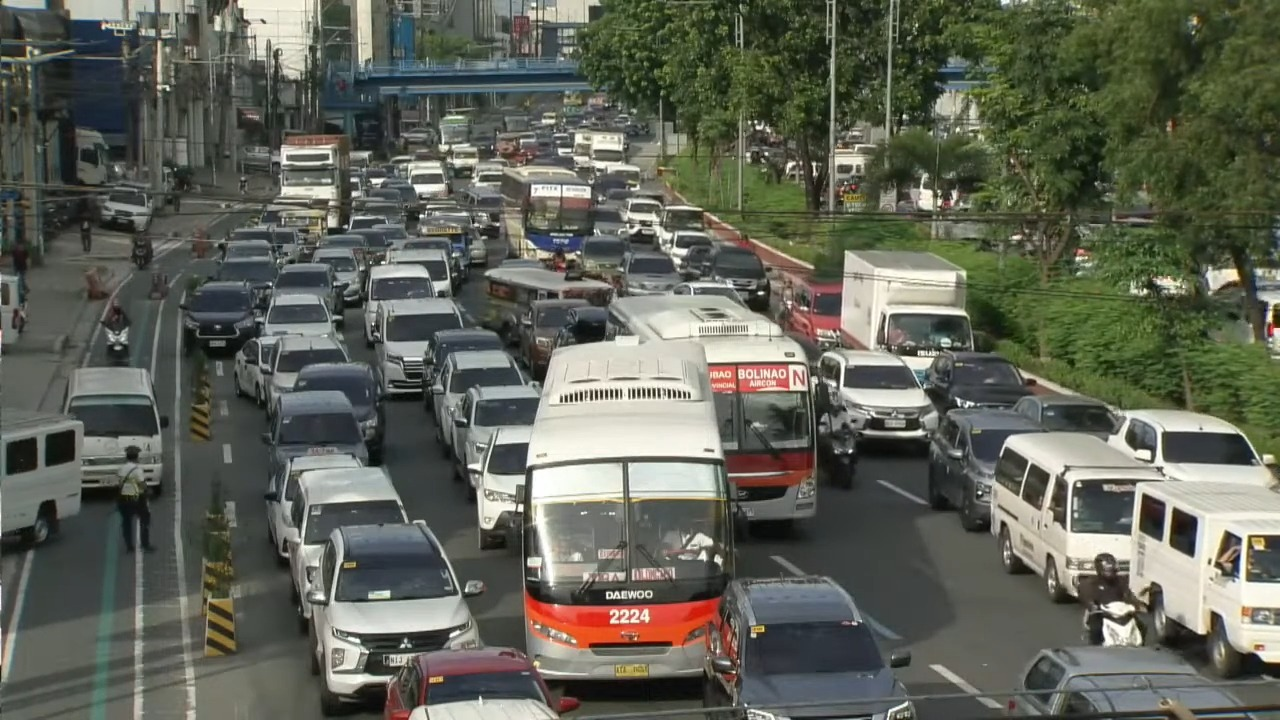bus: (516, 338, 740, 679), (608, 295, 817, 522), (502, 165, 593, 254), (438, 113, 471, 152)
car: (304, 523, 484, 715), (704, 576, 915, 719), (283, 468, 407, 632), (1007, 646, 1247, 717), (926, 408, 1043, 531), (383, 647, 579, 719), (1107, 409, 1274, 485), (816, 349, 938, 442), (431, 350, 530, 458), (265, 454, 361, 564), (294, 362, 384, 465), (373, 298, 463, 393), (262, 390, 367, 470), (464, 425, 531, 550), (452, 386, 539, 480), (260, 335, 349, 416), (924, 350, 1034, 412), (363, 264, 435, 347), (517, 298, 588, 378), (180, 281, 255, 352), (1013, 393, 1117, 439), (700, 243, 770, 311), (423, 328, 505, 385), (273, 262, 343, 325), (386, 248, 456, 297), (213, 257, 277, 308), (312, 232, 369, 289), (233, 336, 278, 408), (312, 246, 362, 308), (261, 294, 334, 336), (460, 169, 503, 238), (619, 250, 681, 295), (346, 222, 392, 276), (658, 205, 710, 252), (553, 306, 607, 351), (100, 187, 152, 232), (579, 233, 630, 272), (672, 280, 745, 306), (622, 197, 661, 244), (379, 181, 421, 219), (408, 162, 450, 199), (664, 230, 714, 261), (220, 226, 273, 253), (677, 246, 714, 282), (222, 239, 274, 262), (271, 228, 304, 264), (592, 205, 624, 235), (372, 223, 411, 245), (347, 214, 392, 231), (401, 127, 435, 144), (363, 167, 390, 187), (604, 188, 634, 204), (499, 258, 544, 268)
motorcycle: (818, 424, 860, 489), (1086, 601, 1144, 646), (104, 326, 129, 365), (131, 238, 152, 269)
truck: (840, 250, 973, 379), (278, 135, 350, 233), (75, 127, 110, 186), (590, 132, 625, 175), (572, 130, 594, 170)
